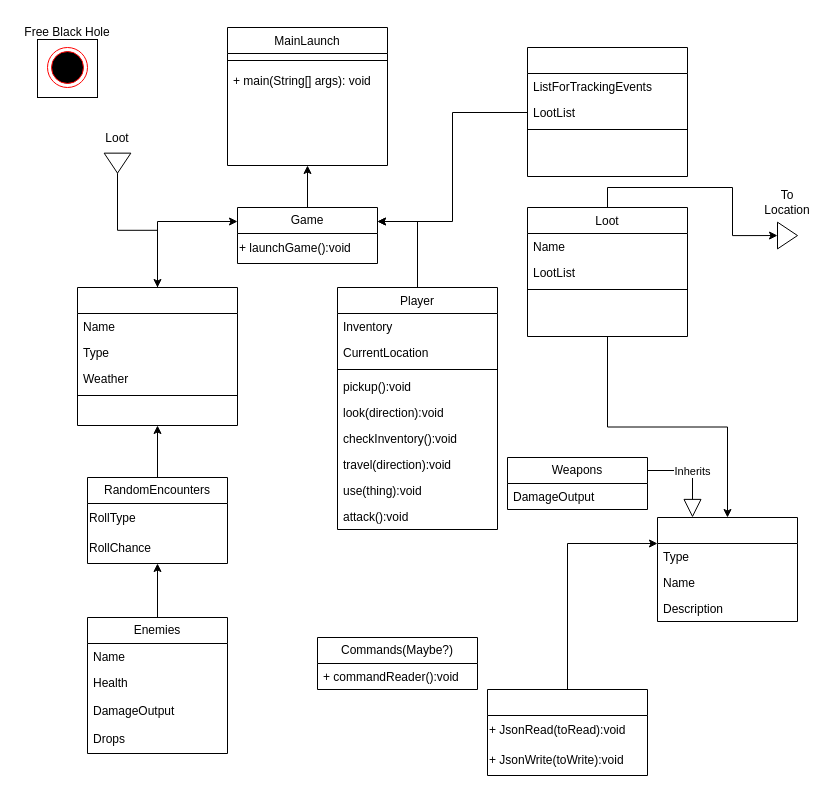
The diagram is 834 pixels wide and 793 high, and some of its shapes have lost their labels. The box of each missing label's shape, as (x1, y1, x2, y2) in pixels:
Items: (656, 516, 798, 622)
JsonHandler: (486, 688, 648, 776)
Location: (76, 286, 238, 426)
ProgressCheckerModel: (526, 46, 688, 176)
